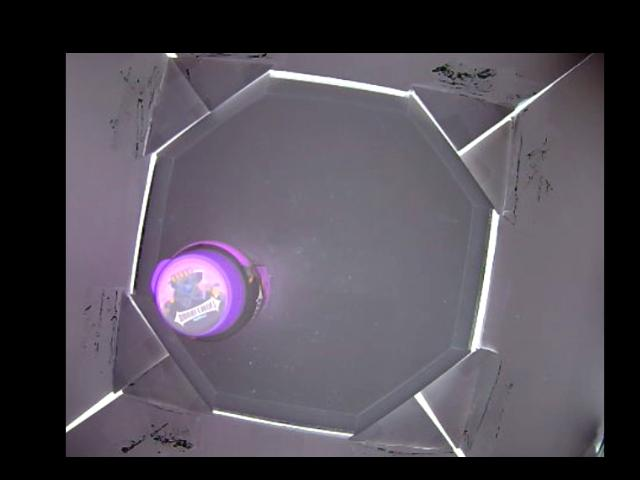Bottle: (147, 241, 271, 341)
